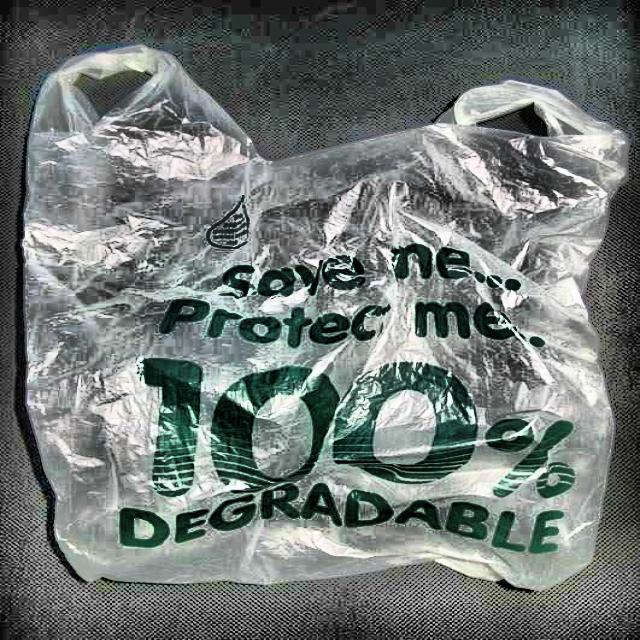Plastic: (25, 40, 627, 604)
